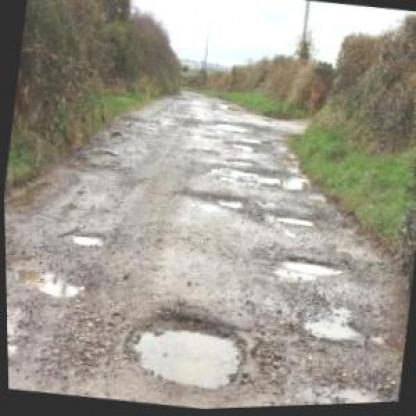pothole: (116, 304, 251, 399), (13, 258, 92, 302), (295, 304, 369, 348), (174, 183, 254, 215), (280, 254, 345, 281), (6, 306, 29, 368), (57, 223, 107, 248), (226, 139, 262, 155), (282, 175, 309, 194)
